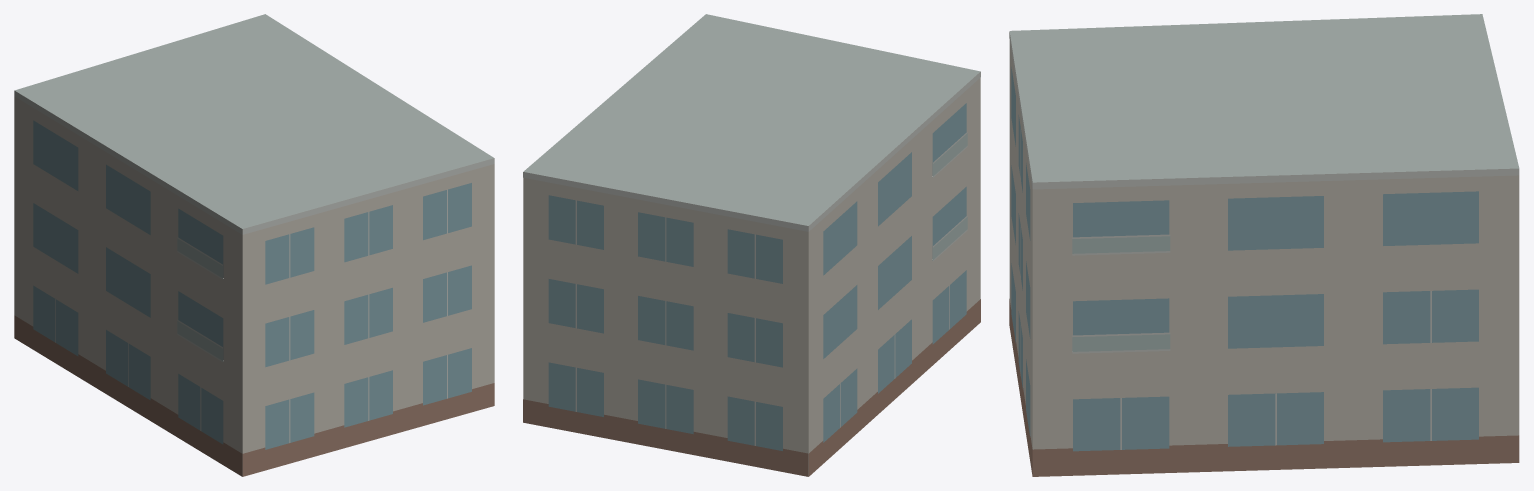
File: survey-upis-32577416.glb
3 views of the same model, side by side, from view 1: azimuth 30°, elevation 25°; view 2: azimuth 150°, elevation 25°; view 3: azimuth 270°, elevation 25° (orthographic). The views are drawn at different scales.
Parts seen in each view (by area): view 1: survey-upis-32577416.tmp; view 2: survey-upis-32577416.tmp; view 3: survey-upis-32577416.tmp.
Part boxes in pixels (x1,y1,x2,y2): survey-upis-32577416.tmp: [14, 14, 494, 476]; survey-upis-32577416.tmp: [523, 14, 980, 476]; survey-upis-32577416.tmp: [1009, 14, 1519, 476].
Bounding box in the file's own units: 12.78 × 10.4 × 16.34.
